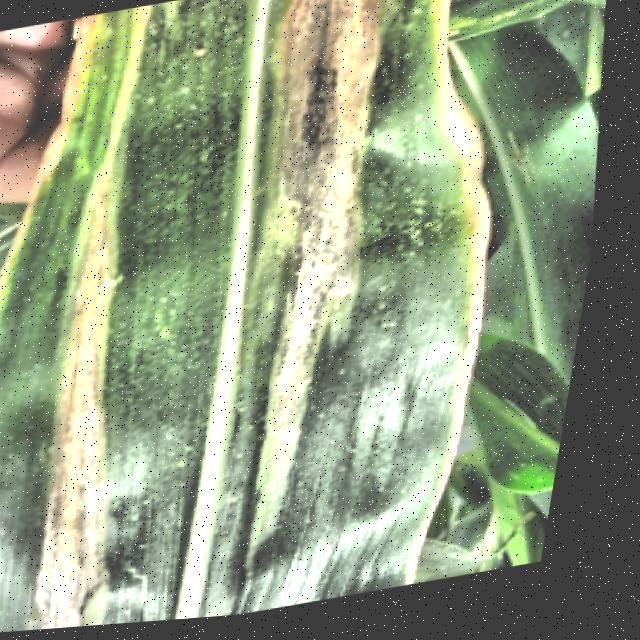blight: (0, 0, 567, 636)
